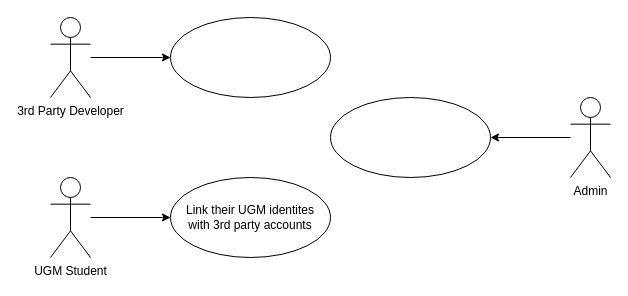
This 628x296 diagram has some shape labels left out. The box of each missing label's shape, as (x1, y1, x2, y2) in pixels:
Manage student data: (330, 96, 490, 178)
Register and integrate their 3rd party applications: (170, 16, 330, 98)
